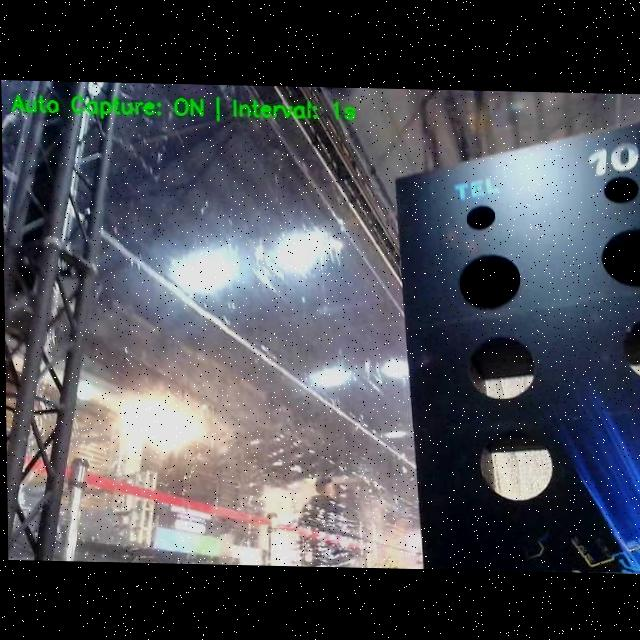hole: (482, 428, 554, 502), (470, 335, 536, 401), (460, 254, 522, 311), (601, 227, 640, 289), (603, 176, 638, 203), (466, 206, 495, 229)
